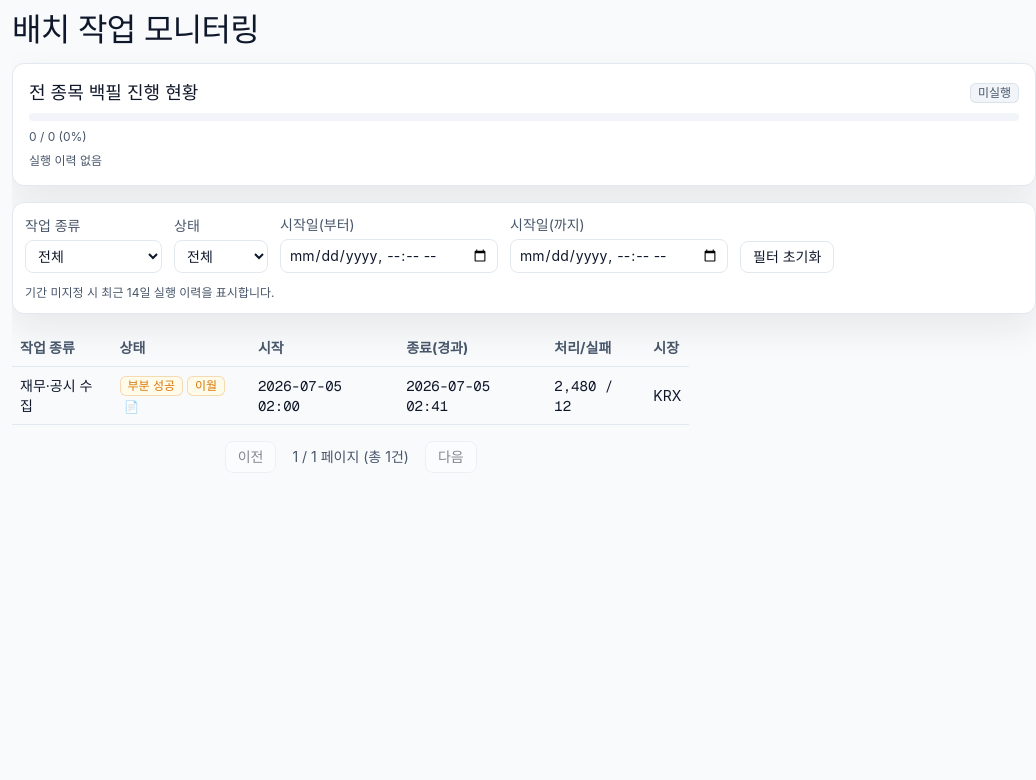
Test: AdminBatchesPage › 행 선택 시 상세 패널이 열리고 errorLog·실패 목록을 로드한다(Main 6)
What coordinates should you click on to do the following:
click the text "부분 성공"
I would click on:
 (151, 386)
Its box is [120,376,183,396].
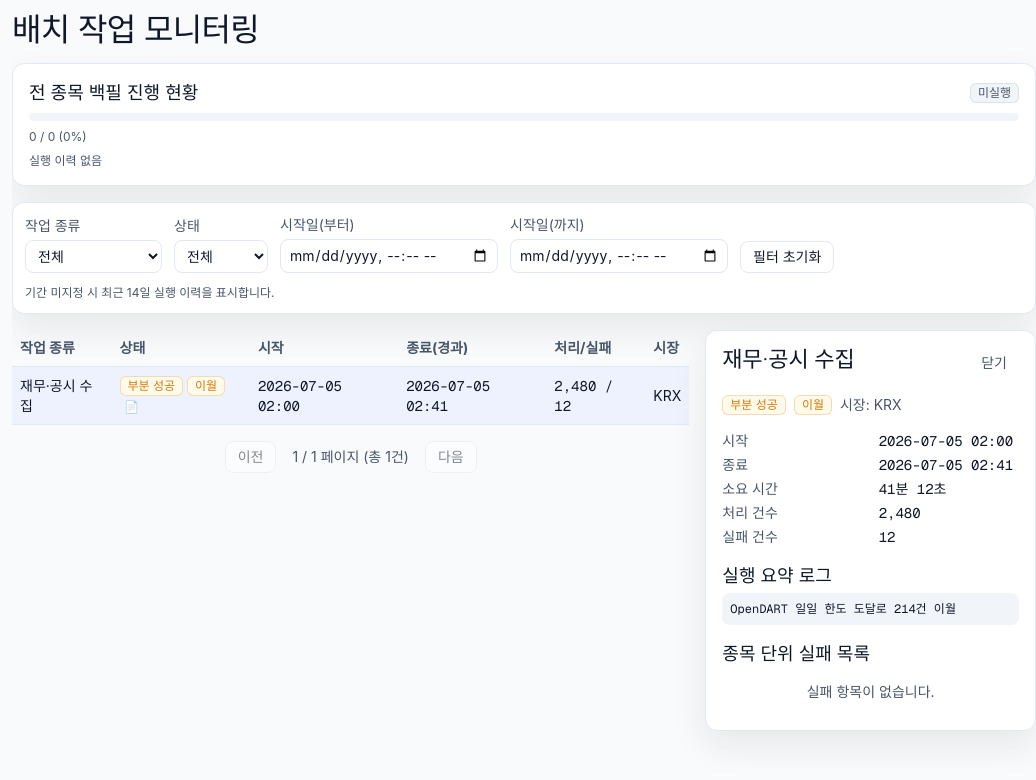
expect the text "OpenDART 일일 한도 도달로 214건 이월" is shown: met, box [722,593,1019,625]
